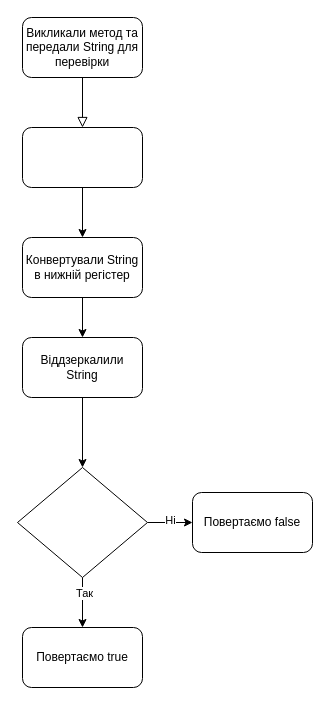
The diagram is 330 pixels wide and 705 high, and some of its shapes have lost their labels. The shapes that lost their labels are listed below. From the top down, each one's box as (x1, y1, x2, y2) in pixels, then its label:
(22, 126, 142, 188): Видалили пробіли в String
(16, 466, 148, 578): Конверто- ваний String співпадає з початковим
